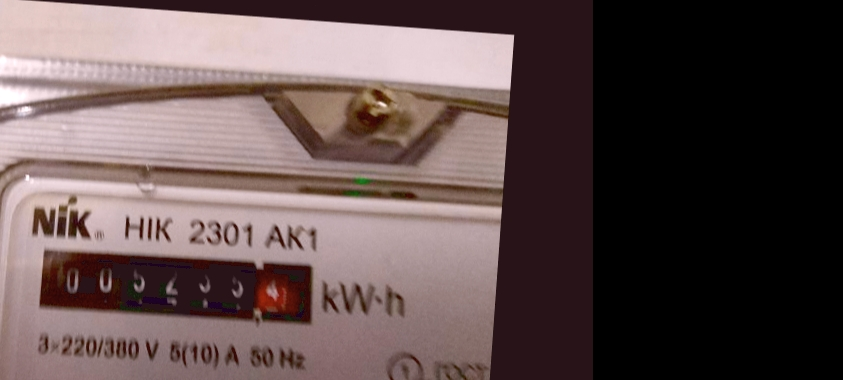0: (93, 261, 115, 295), (61, 263, 81, 295)
2: (159, 263, 182, 298)
3: (191, 263, 217, 298)
4: (260, 268, 284, 305)
5: (225, 264, 249, 302), (127, 261, 148, 296)
screen: (20, 231, 327, 339)
